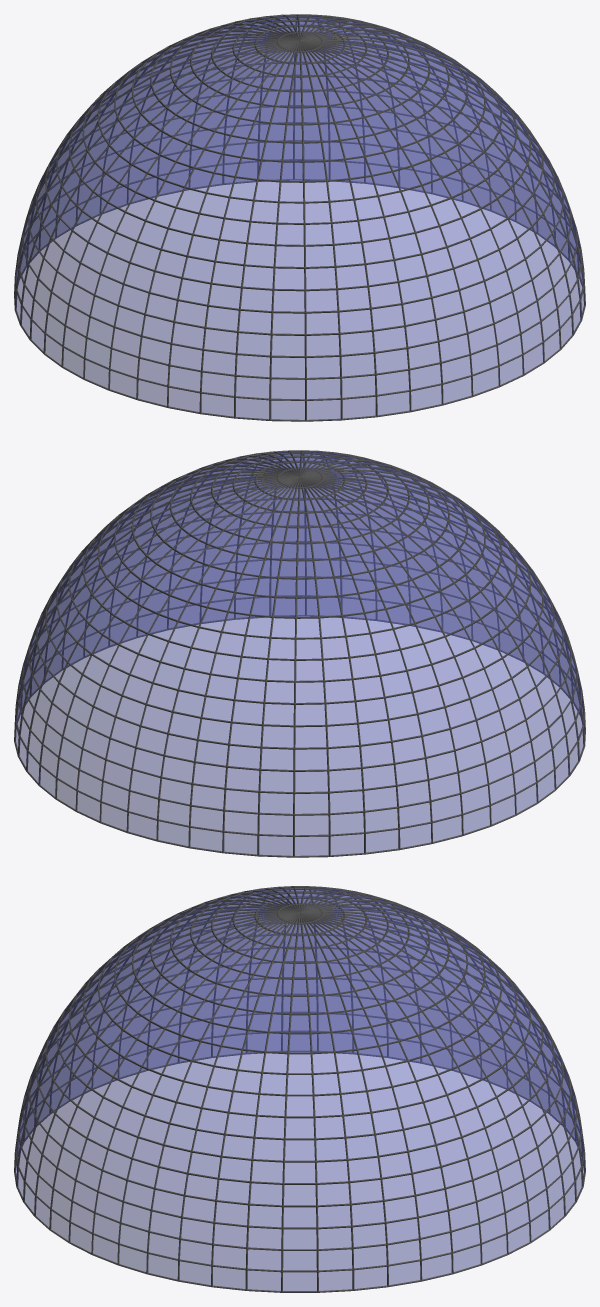
File: dome.fbx
3 renders of one model, top to bottom at view 1: azimuth 30°, elevation 25°; view 2: azimuth 150°, elevation 25°; view 3: azimuth 270°, elevation 25°, orthographic.
Parts seen in each view (by area): view 1: Sphere; view 2: Sphere; view 3: Sphere.
Boxes of the visible parts, <box> form: Sphere: <box>14,14,585,421</box>; Sphere: <box>14,450,585,857</box>; Sphere: <box>14,886,585,1292</box>.
Bounding box in the file's own units: 3609 × 1814 × 3616.
